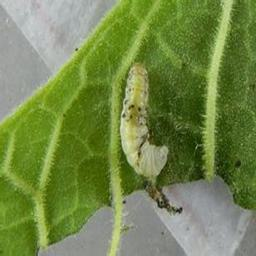Tobacco_budworm: (120, 62, 169, 179)
